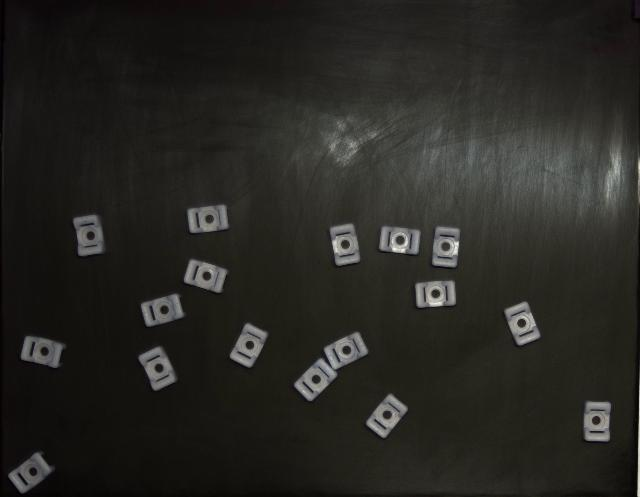first_side: (9, 452, 55, 494), (366, 394, 408, 439), (294, 359, 338, 401), (230, 324, 269, 369), (324, 332, 369, 370), (139, 348, 178, 391), (504, 301, 540, 346), (184, 260, 229, 294), (20, 336, 66, 369), (141, 294, 185, 328), (72, 215, 105, 258), (330, 224, 360, 266), (431, 226, 460, 269), (188, 205, 230, 234), (379, 226, 420, 255), (415, 281, 456, 309), (584, 401, 611, 442)
